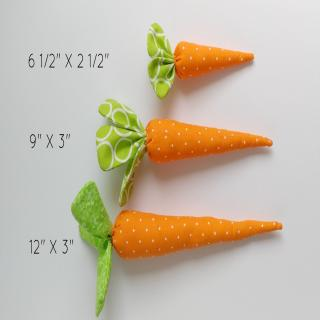Wortel: (58, 168, 301, 319), (94, 80, 290, 199), (135, 18, 270, 112)
